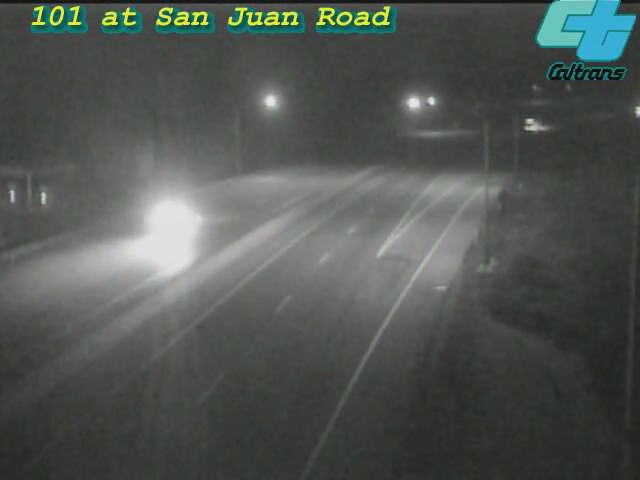vehicle: (118, 182, 198, 262), (514, 99, 564, 149)
